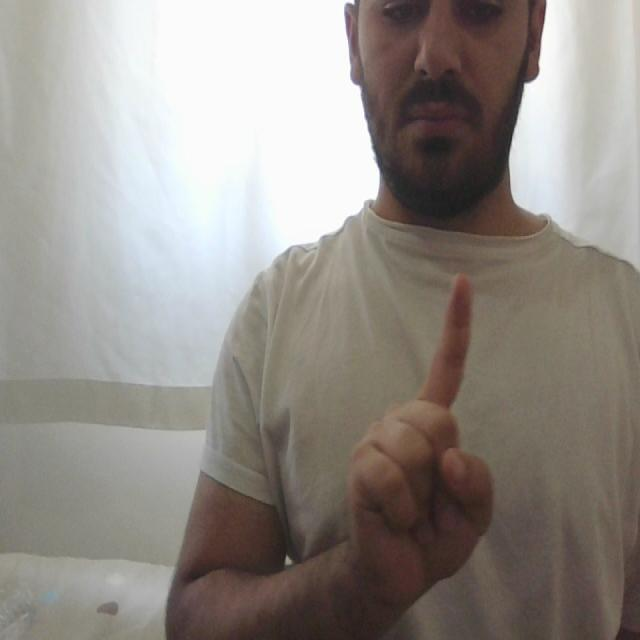Hayir: (336, 267, 506, 620)
